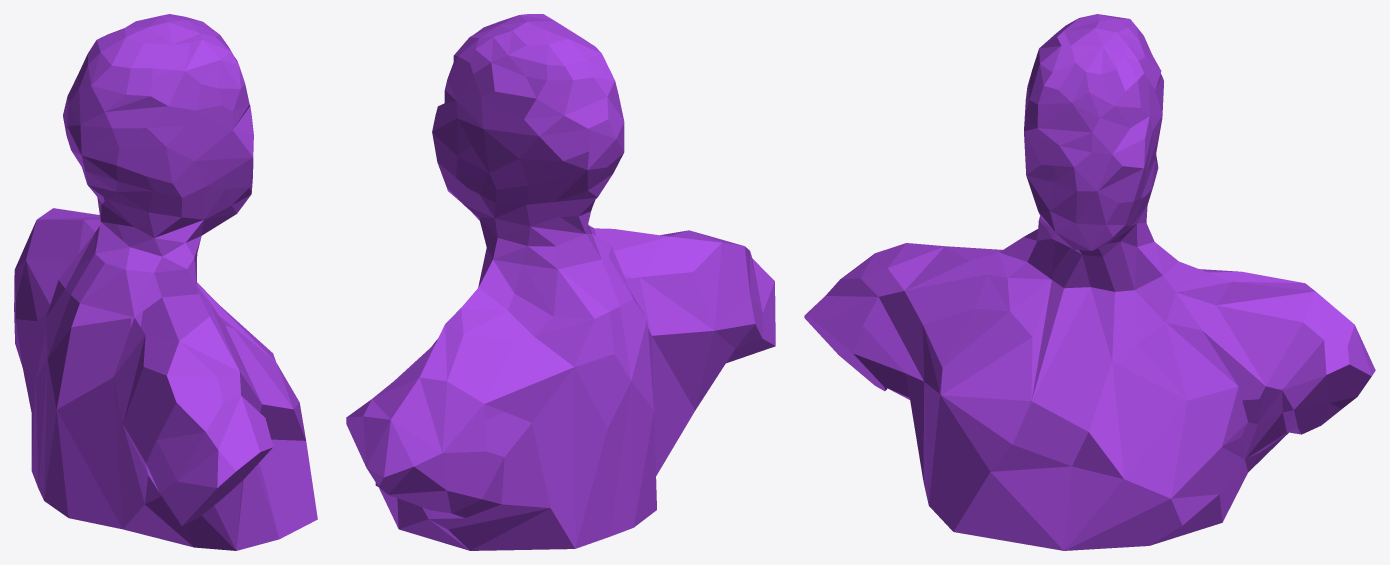
Rendered from Statue.010_chunks.fbx.
3 views of the same model, side by side, from view 1: azimuth 30°, elevation 25°; view 2: azimuth 150°, elevation 25°; view 3: azimuth 270°, elevation 25° (orthographic). The views are drawn at different scales.
Parts seen in each view (by area): view 1: Statue.010_0, Statue.010_2, Statue.010_8, Statue.010_1, Statue.010_5, Statue.010_4, Statue.010_3; view 2: Statue.010_1, Statue.010_3, Statue.010_5, Statue.010_2, Statue.010_0, Statue.010_4, Statue.010_6; view 3: Statue.010_8, Statue.010_7, Statue.010_0, Statue.010_1, Statue.010_9, Statue.010_6, Statue.010_5.
Part boxes in pixels (x1=…): Statue.010_0: x1=87, y1=65, x2=272, y2=525; Statue.010_2: x1=35, y1=253, x2=148, y2=525; Statue.010_8: x1=200, y1=290, x2=317, y2=550; Statue.010_1: x1=50, y1=14, x2=252, y2=222; Statue.010_5: x1=20, y1=204, x2=125, y2=314; Statue.010_4: x1=104, y1=287, x2=213, y2=547; Statue.010_3: x1=14, y1=256, x2=62, y2=513; Statue.010_1: x1=379, y1=14, x2=624, y2=415; Statue.010_3: x1=366, y1=394, x2=651, y2=550; Statue.010_5: x1=373, y1=212, x2=601, y2=439; Statue.010_2: x1=555, y1=241, x2=734, y2=513; Statue.010_0: x1=588, y1=224, x2=775, y2=363; Statue.010_4: x1=623, y1=275, x2=733, y2=475; Statue.010_6: x1=349, y1=382, x2=461, y2=548; Statue.010_8: x1=912, y1=283, x2=1131, y2=550; Statue.010_7: x1=1102, y1=314, x2=1352, y2=546; Statue.010_0: x1=804, y1=44, x2=1070, y2=409; Statue.010_1: x1=1037, y1=14, x2=1347, y2=333; Statue.010_9: x1=1042, y1=224, x2=1298, y2=341; Statue.010_6: x1=1147, y1=318, x2=1371, y2=545; Statue.010_5: x1=1199, y1=269, x2=1361, y2=350.
Bounding box in the file's own units: 184 × 345 × 383.
